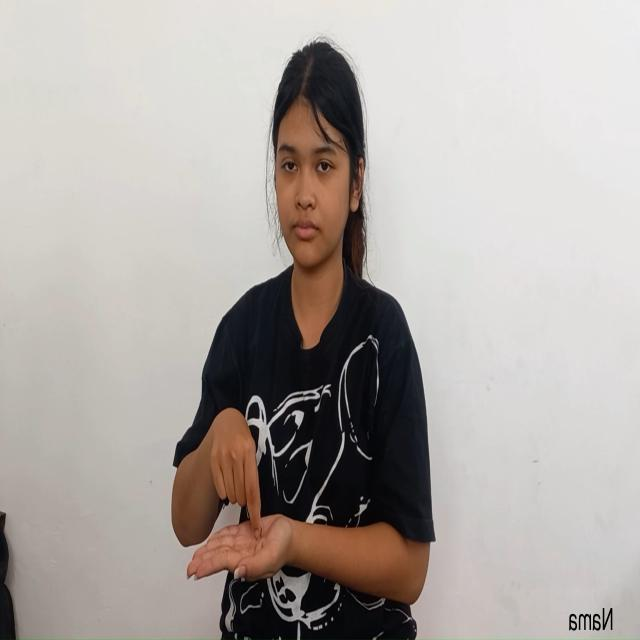Nama -BISINDO-: (182, 403, 306, 610)
